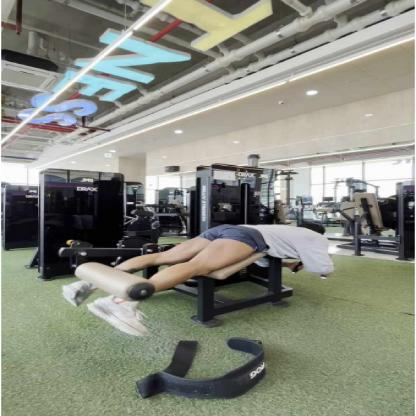reg curl machine: (49, 160, 350, 346)
